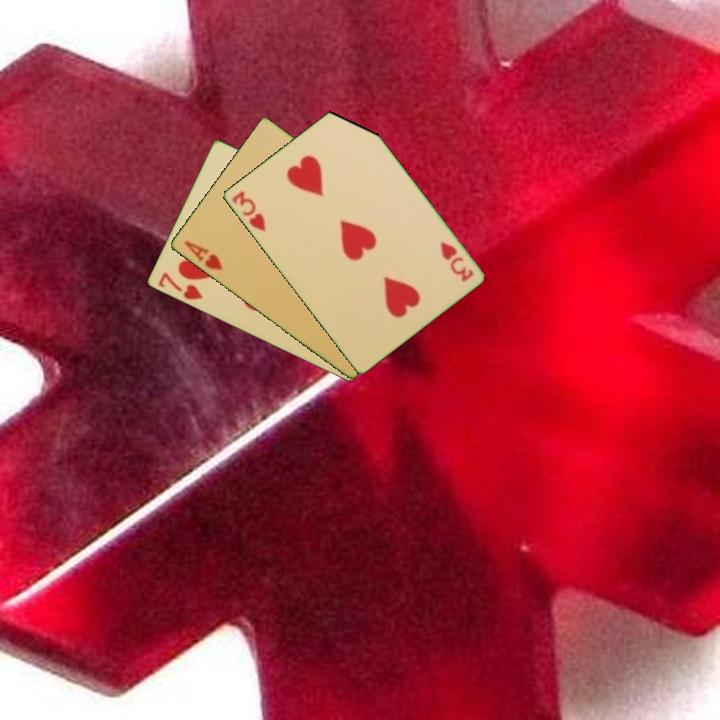3h: (228, 187, 268, 235), (436, 238, 476, 285)
7h: (154, 269, 205, 303)
Ah: (180, 237, 225, 273)
